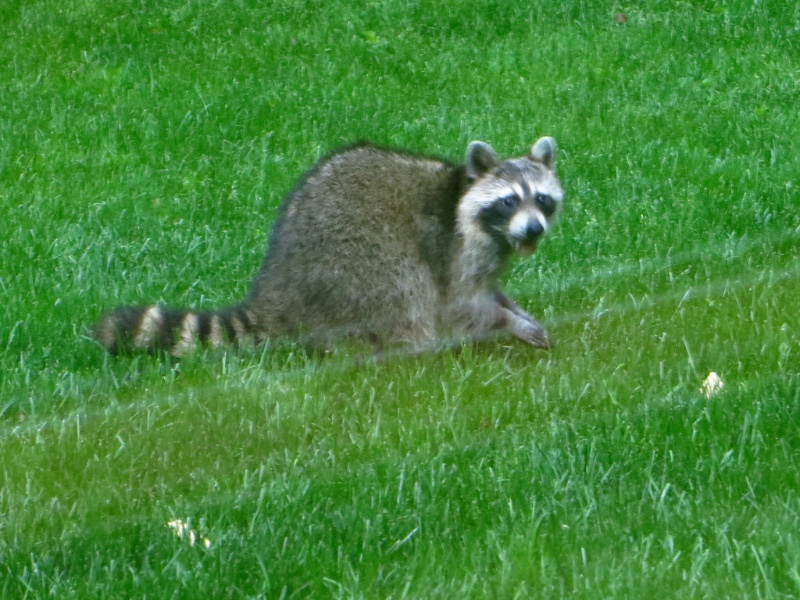raccoon: (91, 132, 569, 365)
